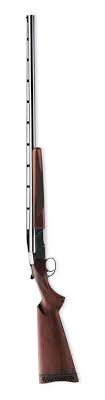gun: (20, 11, 80, 386)
